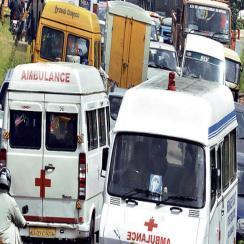Ambulance: (19, 68, 75, 85)
